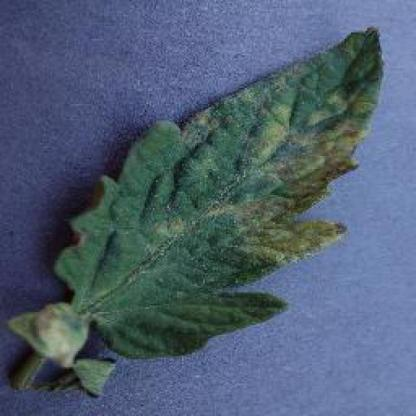Tomato_Leaf_Mold: (56, 24, 385, 364)
